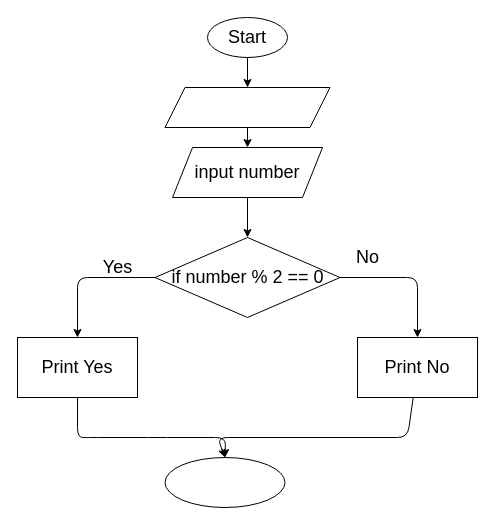
The diagram is 495 pixels wide and 525 high, and some of its shapes have lost their labels. The shapes that lost their labels are listed below. From the top down, each one's box as (x1, y1, x2, y2) in pixels, then its label:
(164, 86, 330, 128): "Введите number = "
(164, 456, 285, 508): End
